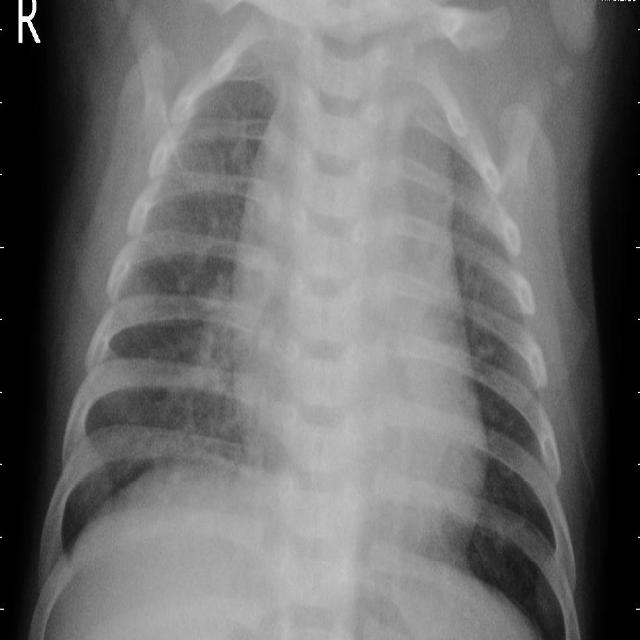viral_pneumonia: (1, 6, 640, 640)
